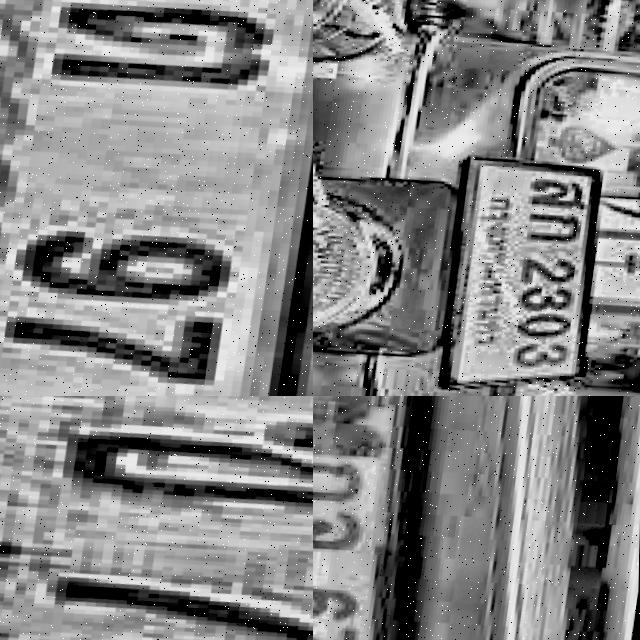license-plate: (0, 0, 313, 396), (0, 396, 313, 640), (422, 143, 628, 396), (313, 396, 485, 640)
